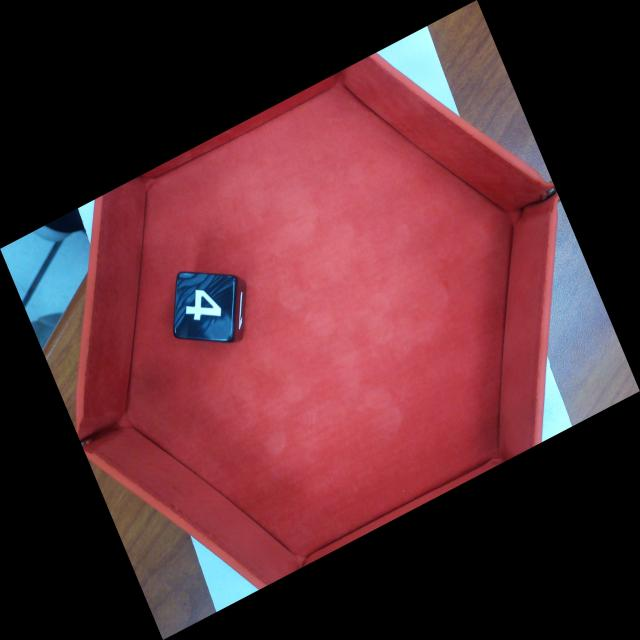dice: (171, 270, 238, 344)
